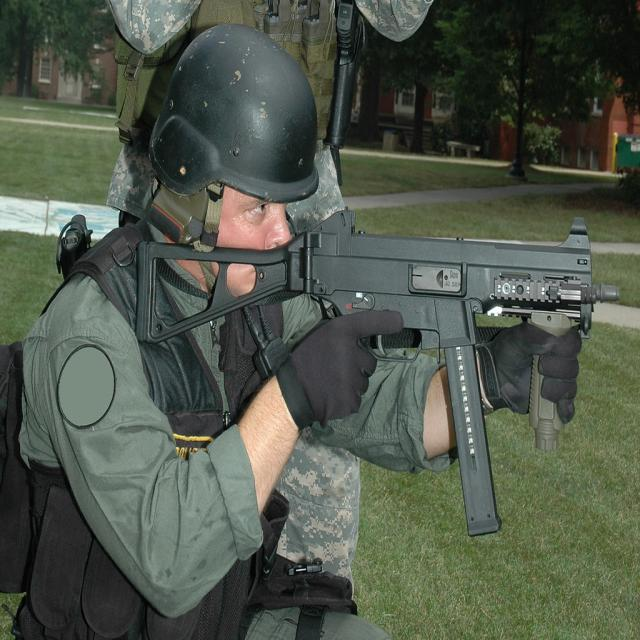HandGun: (323, 0, 364, 150)
SMG: (146, 218, 620, 538)
